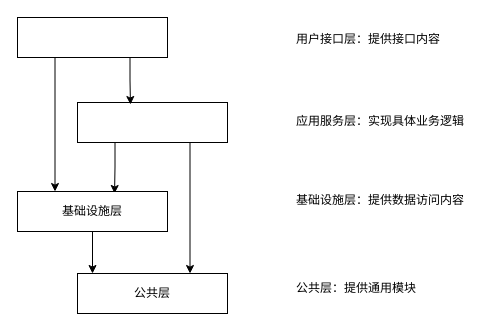
Image size: 500x331. Some labels were removed from this diagram. The shapes that lost their labels are listed below. From the top down, each one's centre as x and y in pixels, then its label:
At (92,37): "用户接口层".
At (152,122): "应用服务层".
